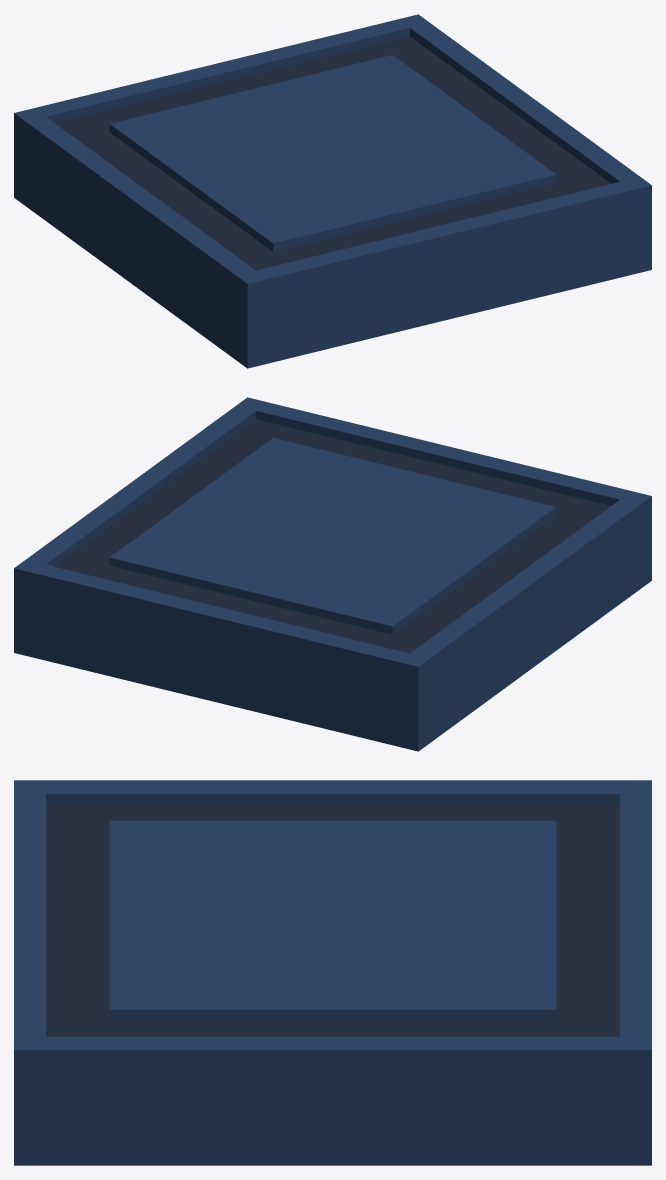
Rendered from Tile_Ground_1.fbx.
3 renders of one model, top to bottom at view 1: azimuth 30°, elevation 25°; view 2: azimuth 150°, elevation 25°; view 3: azimuth 270°, elevation 25°, orthographic. The views are drawn at different scales.
Visible parts, largest first — view 1: Cube; view 2: Cube; view 3: Cube.
Part boxes in pixels (bbox=[...]): Cube: bbox=[14, 14, 651, 368]; Cube: bbox=[14, 397, 651, 751]; Cube: bbox=[14, 780, 651, 1165].
Size of the model in its own units: 100 by 20 by 100.
